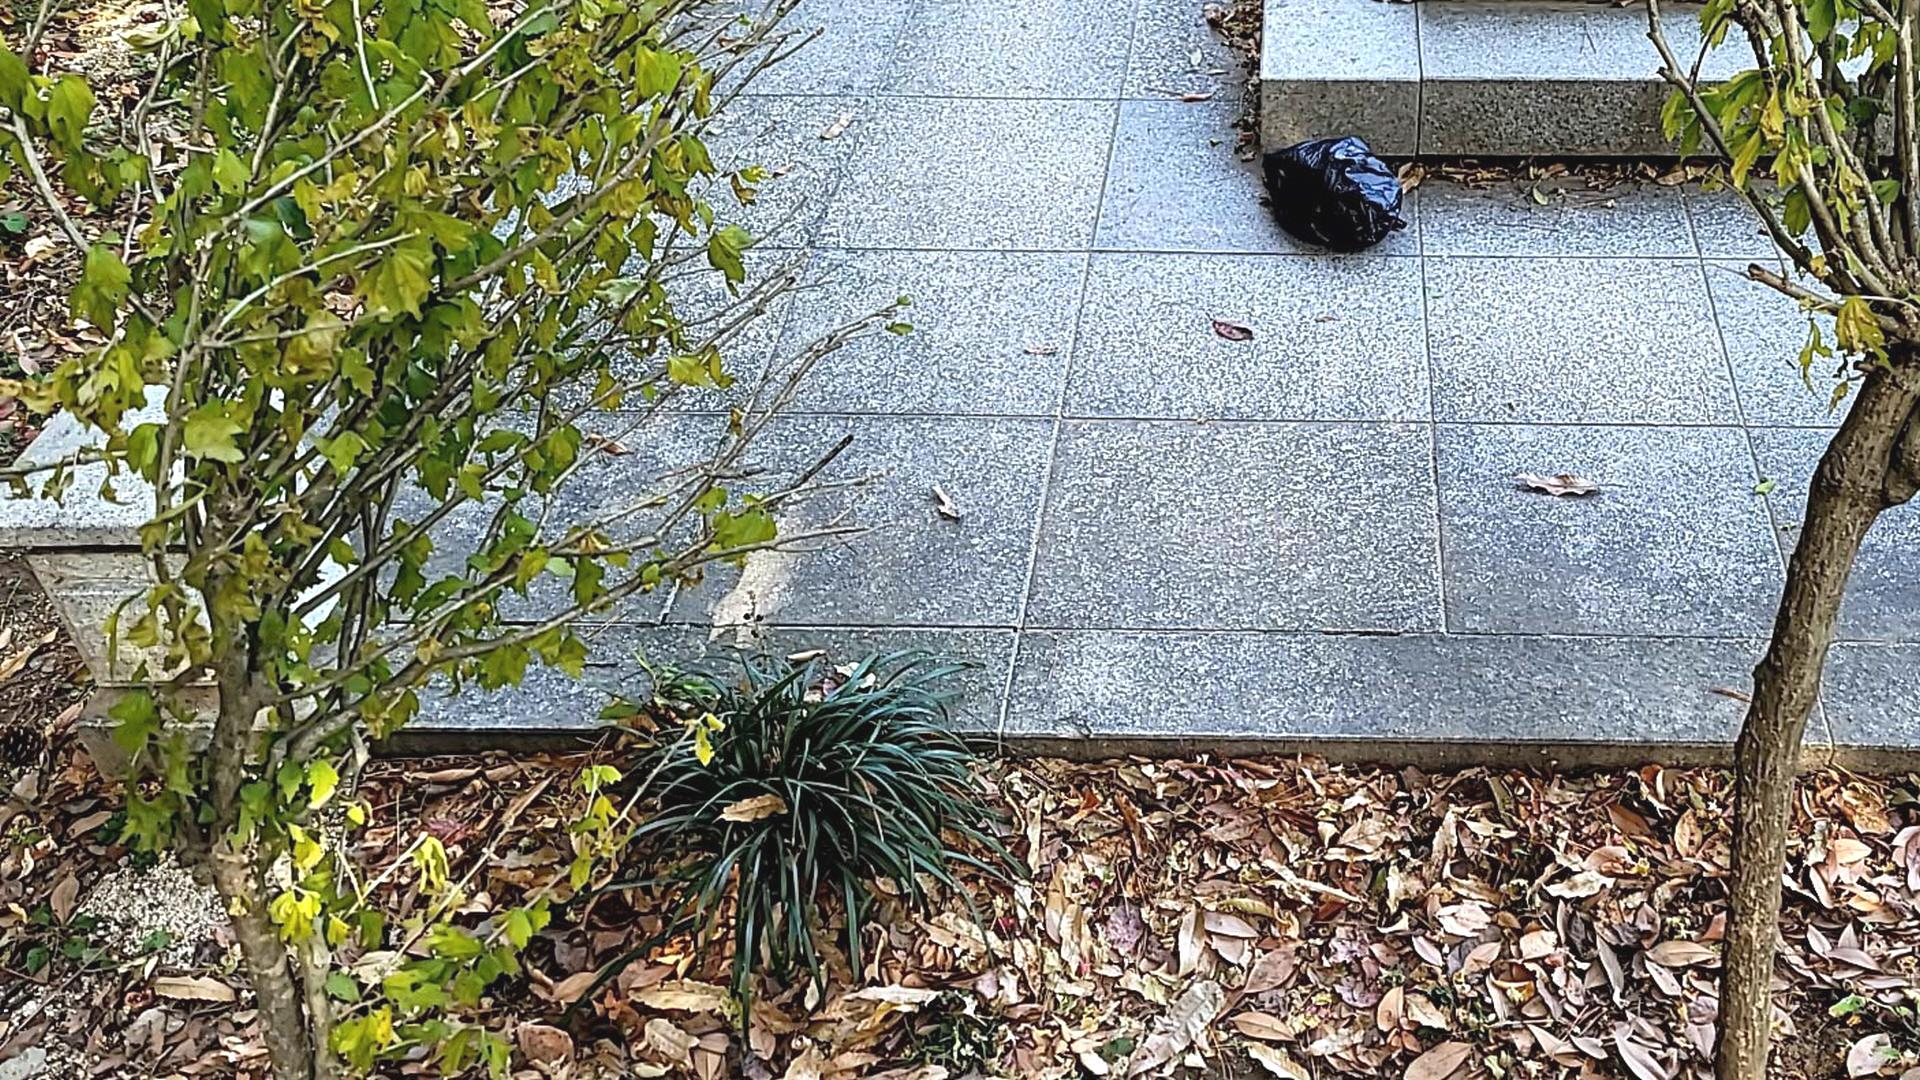black_bag: (1251, 127, 1414, 261)
